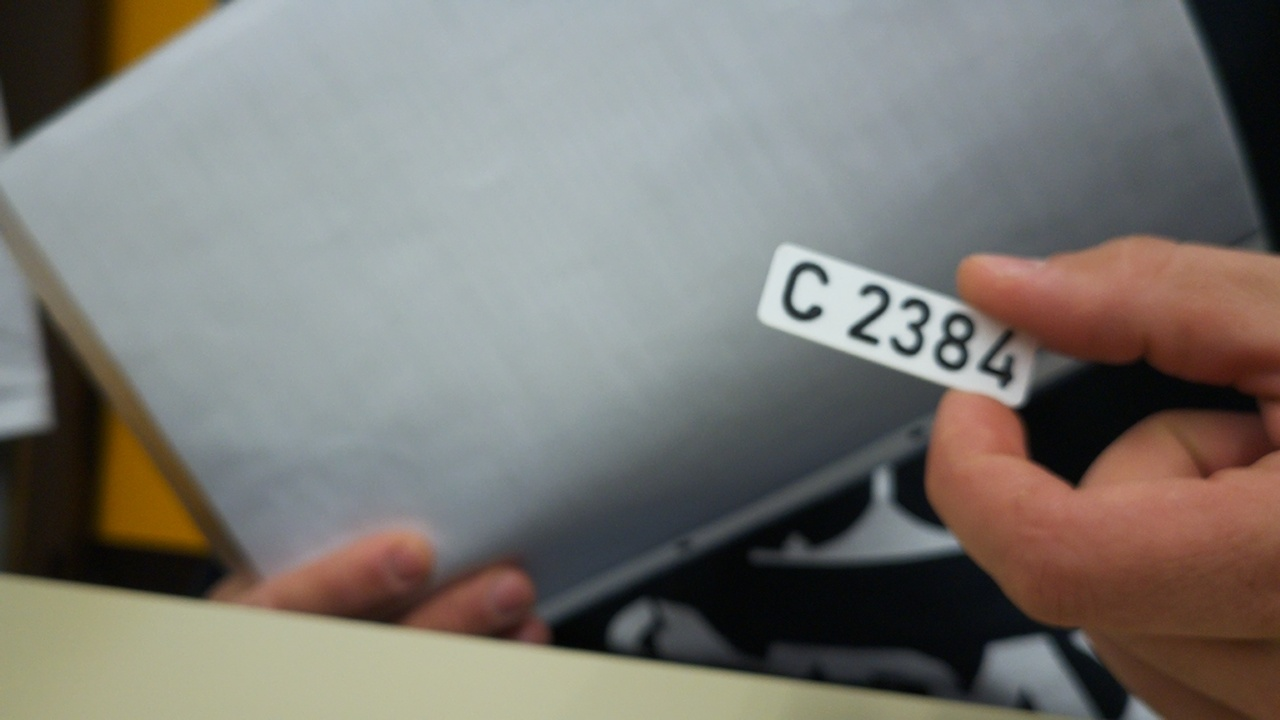license_plate: (751, 236, 1044, 410)
